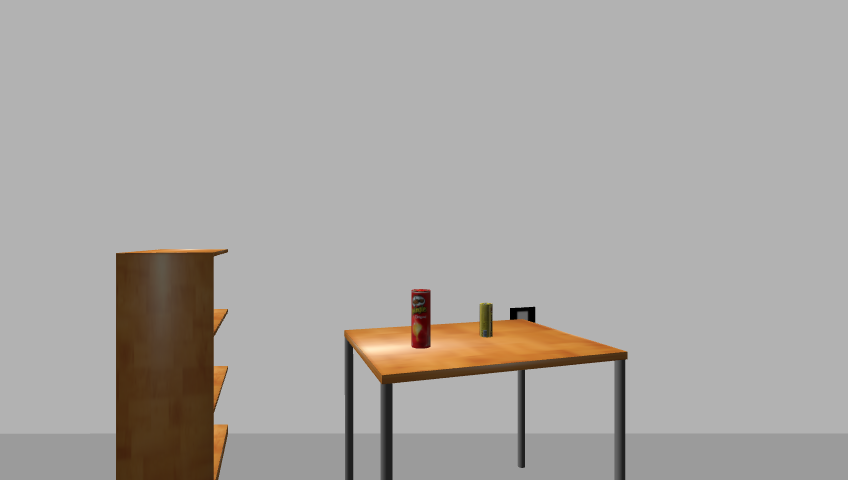aruco marker: (506, 305, 539, 326)
biscuits pack: (479, 302, 494, 339)
bookshelf: (111, 247, 237, 480)
dinner table: (336, 320, 636, 479)
pringles can: (409, 288, 433, 350)
